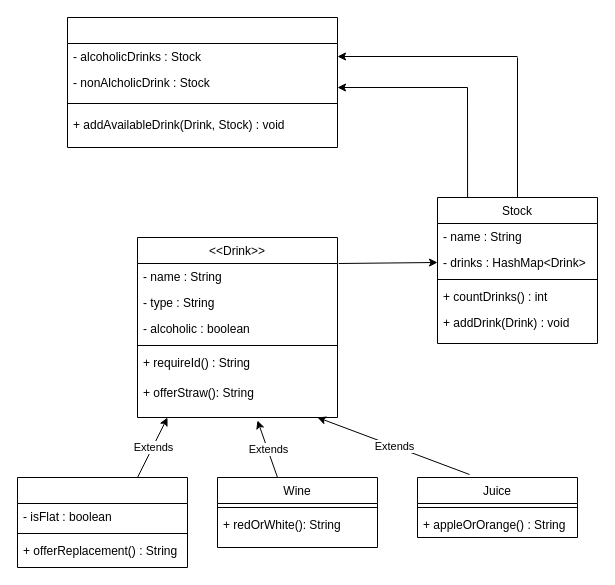
Image size: 615x585. Some labels were removed from this diagram. The shapes that lost their labels are listed below. From the top down, each one's box as (x1, y1, x2, y2) in pixels, then its label:
(66, 16, 338, 148): Bar
(16, 476, 188, 568): Beer
